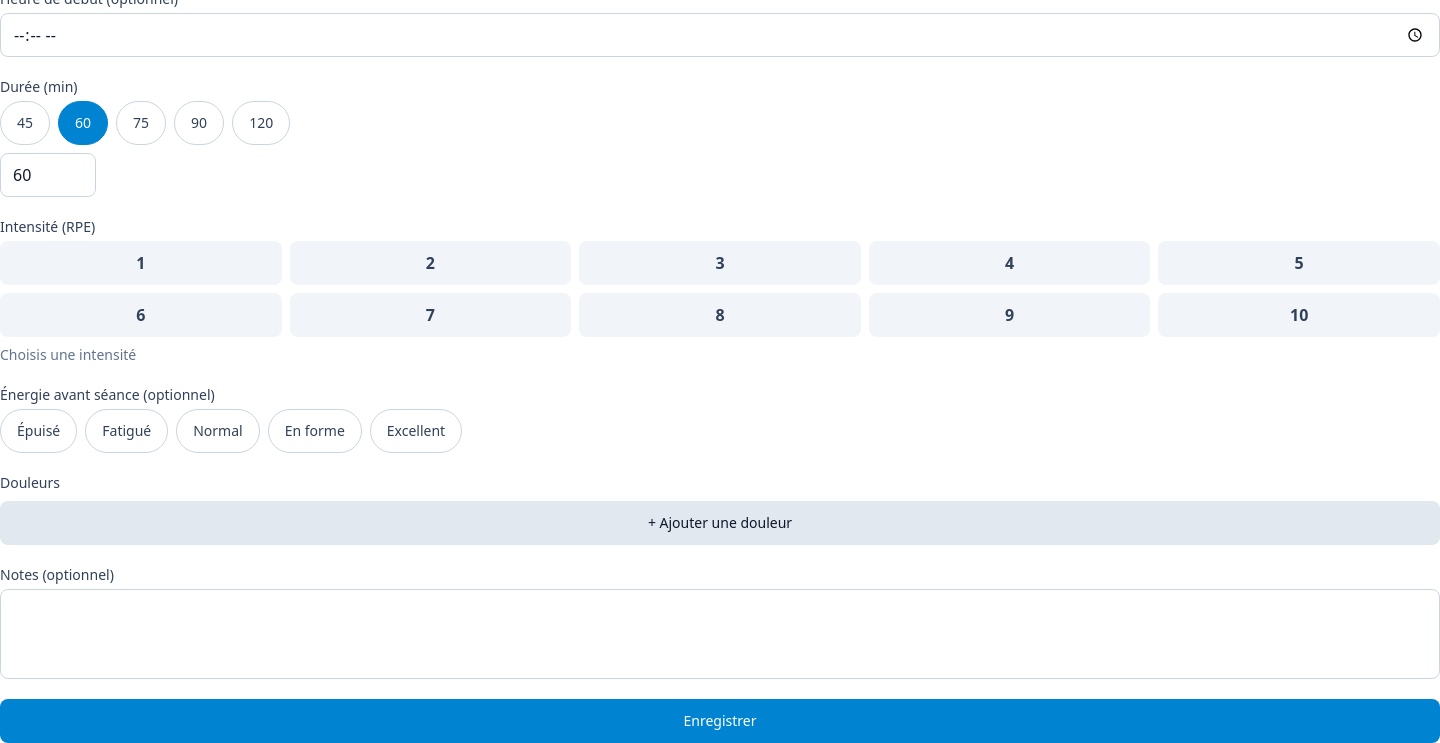
Test case: SessionForm › rejects submit without an activity and RPE, showing inline errors
(page scrolled)
Click the button "Enregistrer" at (720, 721), box left=0, top=699, right=1439, bottom=742
(page scrolled)
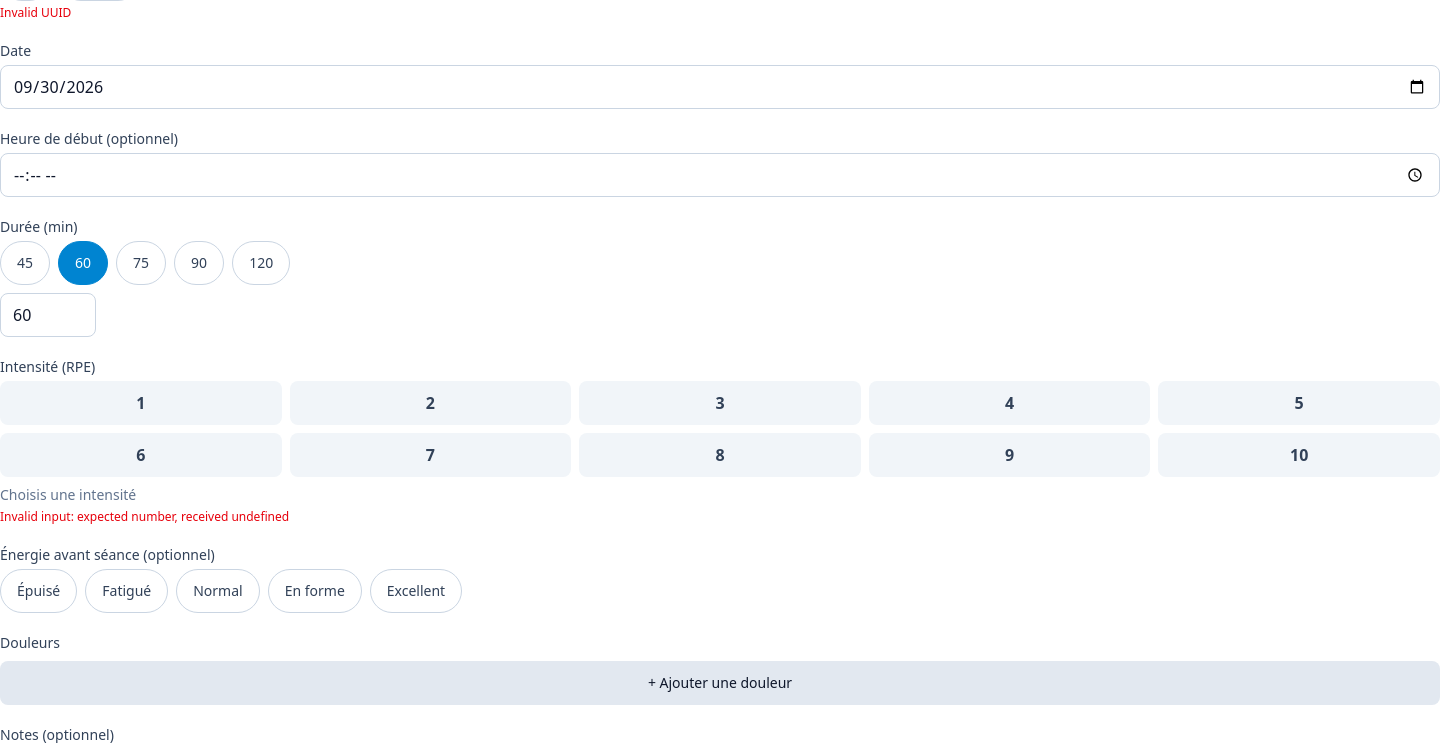
Expected: the message "Invalid UUID" is shown, left=0, top=4, right=71, bottom=21
